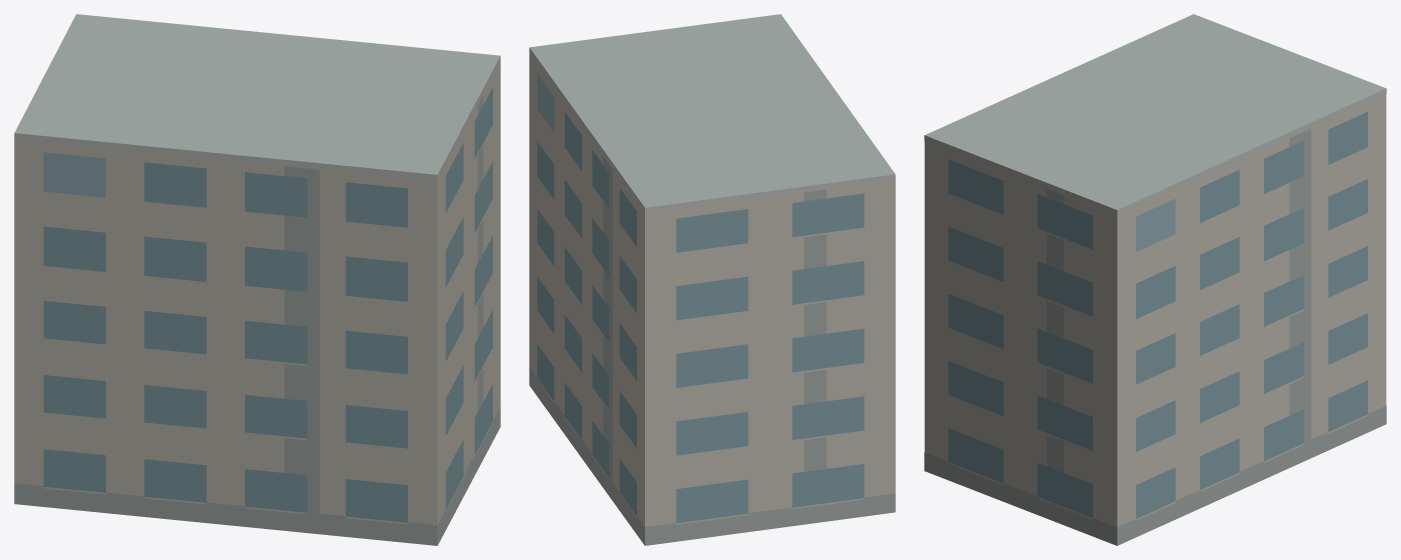
File: survey-upis-32890240.glb
3 renders of one model, left to right at view 1: azimuth 30°, elevation 25°; view 2: azimuth 150°, elevation 25°; view 3: azimuth 270°, elevation 25°, orthographic. The views are drawn at different scales.
Parts seen in each view (by area): view 1: survey-upis-32890240.tmp; view 2: survey-upis-32890240.tmp; view 3: survey-upis-32890240.tmp.
Boxes of the visible parts, box(x1,y1,x2,y2) form: survey-upis-32890240.tmp: box(14, 14, 500, 545); survey-upis-32890240.tmp: box(529, 14, 895, 545); survey-upis-32890240.tmp: box(924, 14, 1386, 545).
Bounding box in the file's own units: 17.16 × 13.7 × 17.09.
